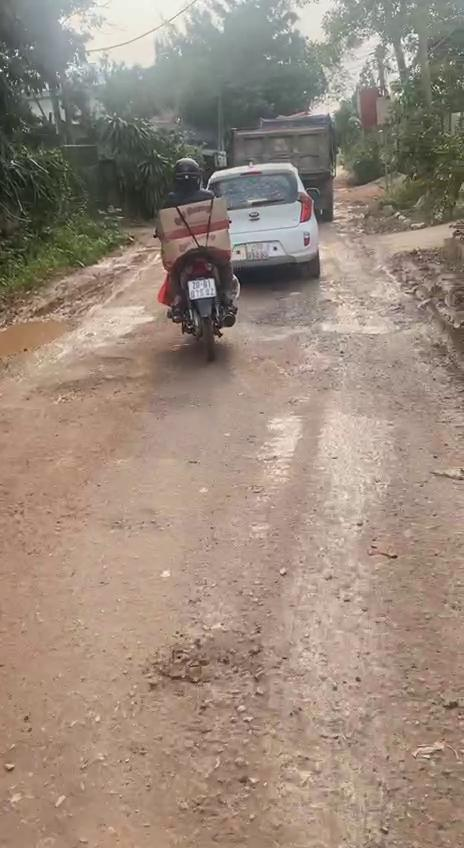pothole: (0, 306, 73, 370)
